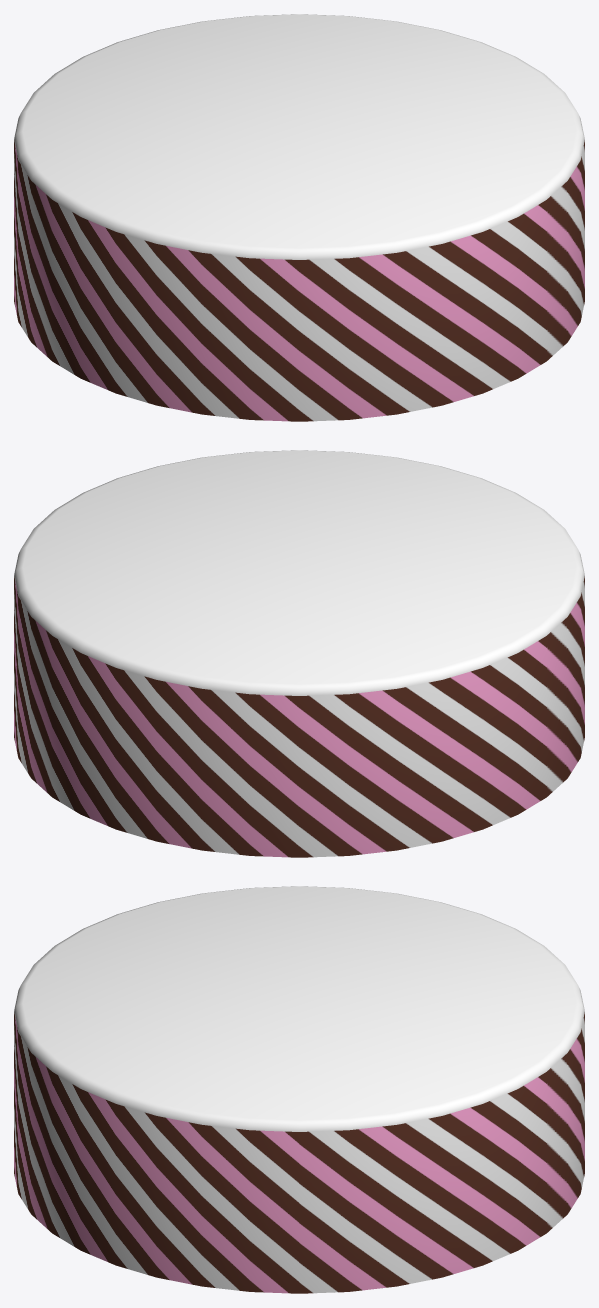
File: Cake_Lrgfix.fbx
3 renders of one model, top to bottom at view 1: azimuth 30°, elevation 25°; view 2: azimuth 150°, elevation 25°; view 3: azimuth 270°, elevation 25°, orthographic.
Visible parts, largest first — view 1: Cake_Lrg; view 2: Cake_Lrg; view 3: Cake_Lrg.
Part boxes in pixels (x1=…): Cake_Lrg: x1=14, y1=14, x2=584, y2=421; Cake_Lrg: x1=14, y1=450, x2=584, y2=857; Cake_Lrg: x1=14, y1=886, x2=584, y2=1293.
Size of the model in its own units: 24059 by 7894 by 24059.
